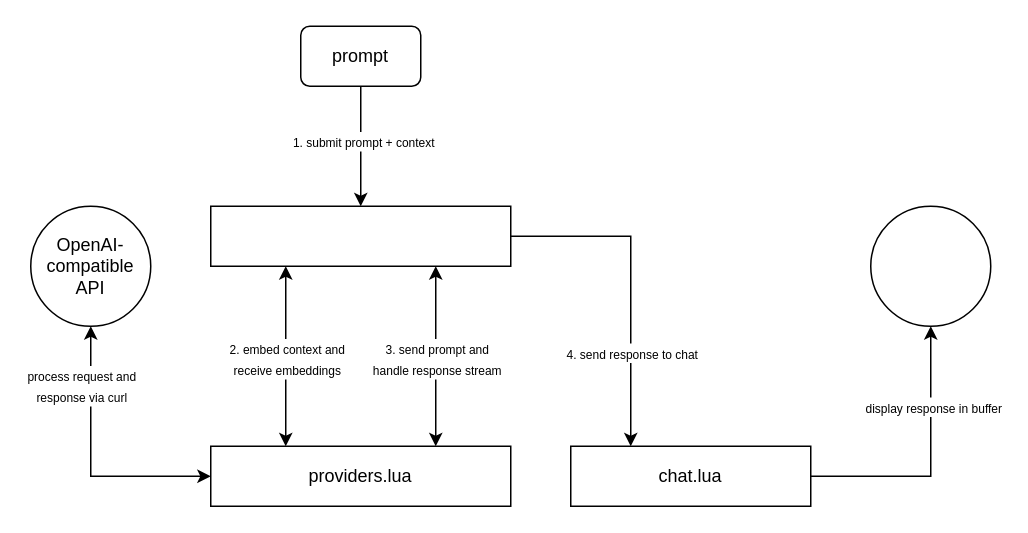
Some shapes in this 1028 by 533 pixel diagram are drawn without their labels. The box of each missing label's shape, as (x1, y1, x2, y2) in pixels:
MinuetChat: (209, 205, 511, 266)
Neovim Buffer: (869, 205, 991, 326)
